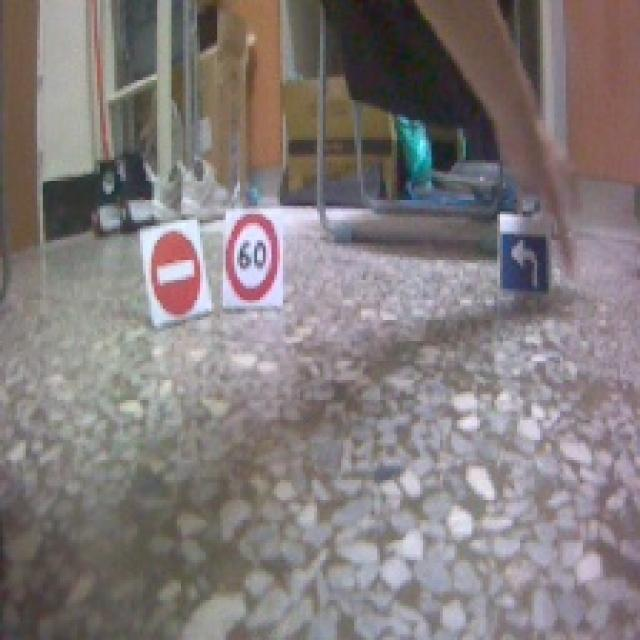DoNotEnterSign: (150, 227, 203, 316)
